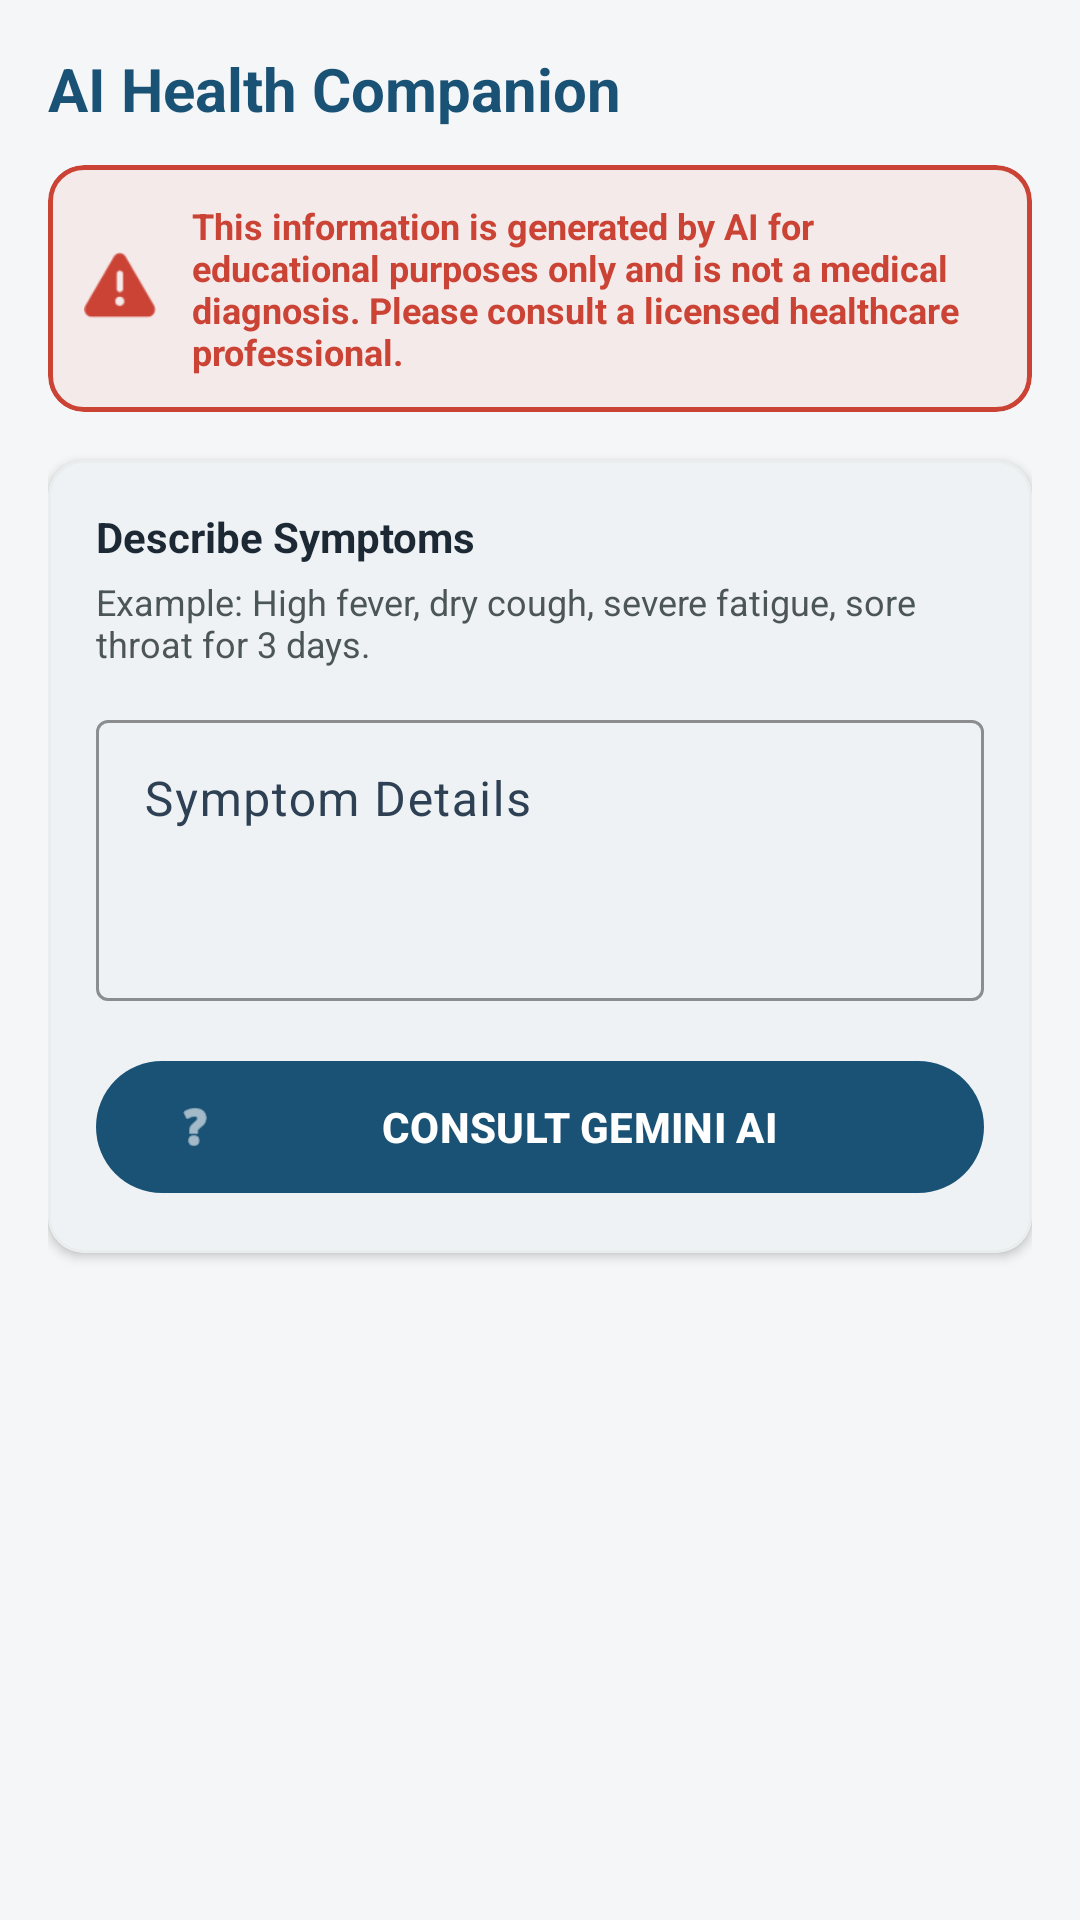

Icon bounding boxes for this 1080px×1920px phone screenshot, format (x1, y1, x2, y2):
Disclaimer Alert: (84, 252, 156, 318)
